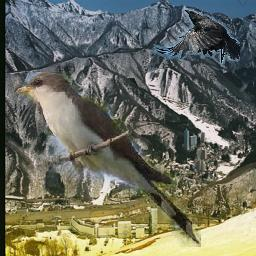Crow: (154, 8, 241, 64)
Cuckoo: (15, 73, 202, 248)
